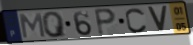6: (72, 10, 94, 37)
C: (124, 7, 149, 34)
M: (19, 12, 47, 40)
P: (93, 7, 118, 37)
Q: (40, 10, 68, 39)
V: (146, 5, 169, 33)
